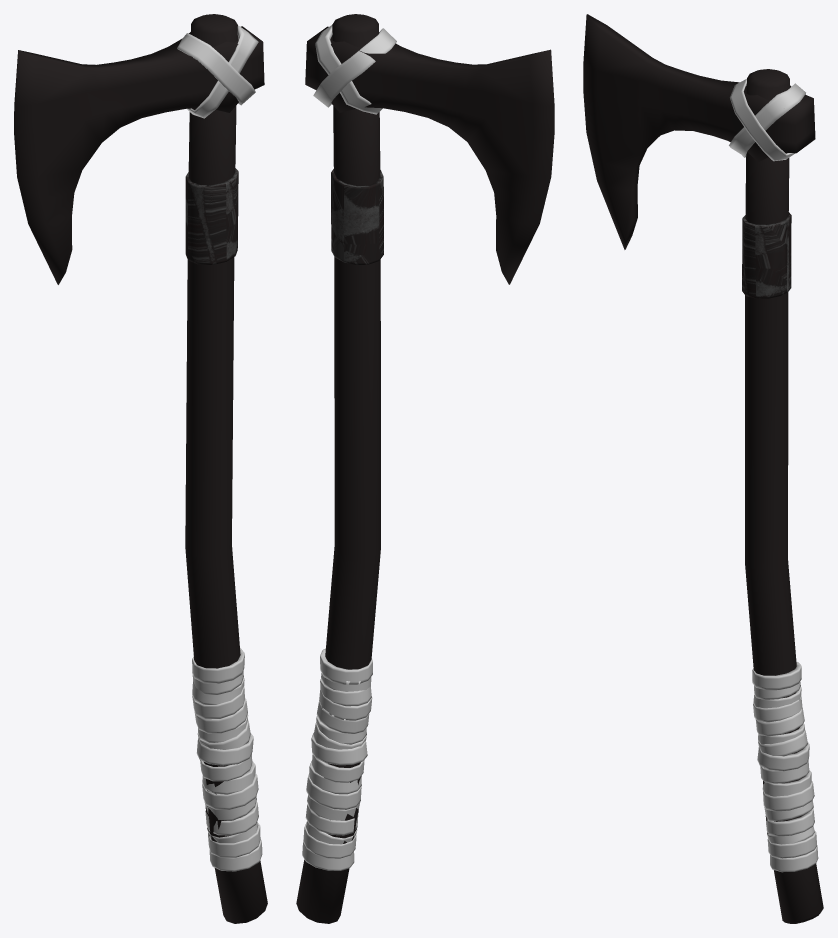
Rendered from Axe.fbx.
3 renders of one model, left to right at view 1: azimuth 30°, elevation 25°; view 2: azimuth 150°, elevation 25°; view 3: azimuth 330°, elevation 25°, orthographic. The views are drawn at different scales.
Visible parts, largest first — view 1: TOP GRIP; view 2: TOP GRIP; view 3: TOP GRIP.
Part boxes in pixels (left/top/right/bottom): TOP GRIP: left=14, top=14, right=267, bottom=923; TOP GRIP: left=296, top=14, right=554, bottom=923; TOP GRIP: left=583, top=14, right=823, bottom=923.
Size of the model in its own units: 20.02 by 70.07 by 4.5.
